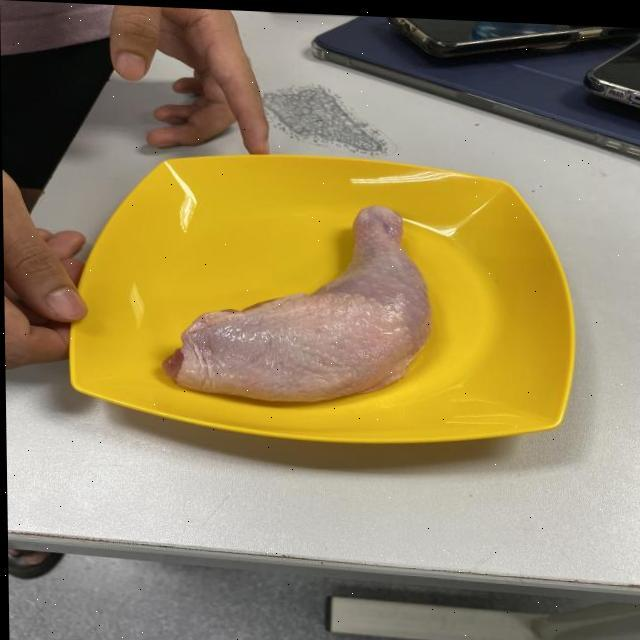quater: (156, 186, 430, 406)
